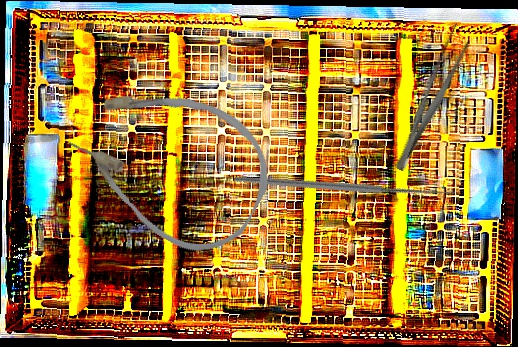Cannula: (51, 53, 290, 271)
Dressing Forceps: (387, 20, 476, 176)
Hook Surgical: (232, 75, 462, 289)
